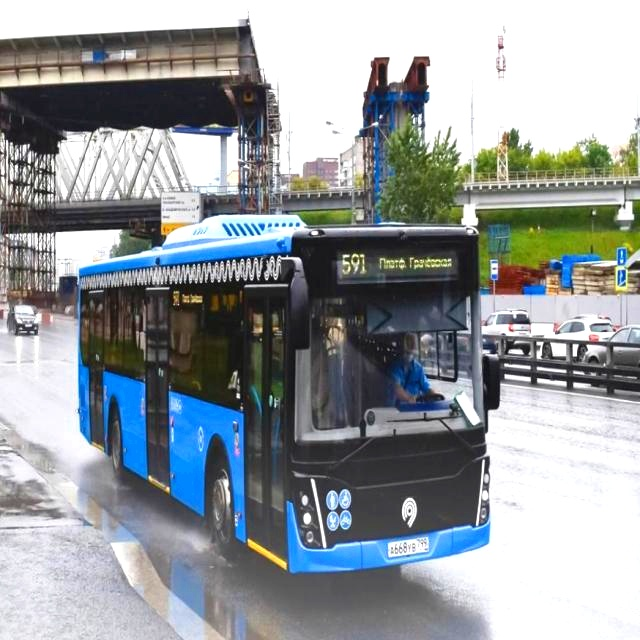bus: (53, 205, 523, 597)
